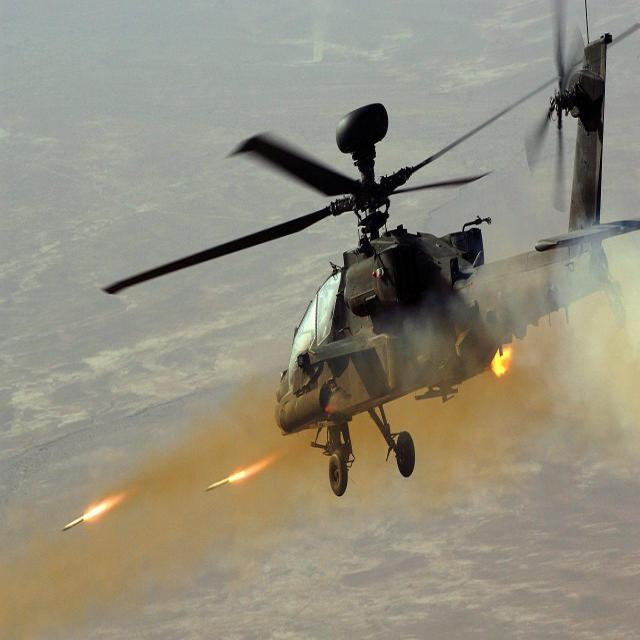MIL_HELO: (48, 9, 638, 503)
